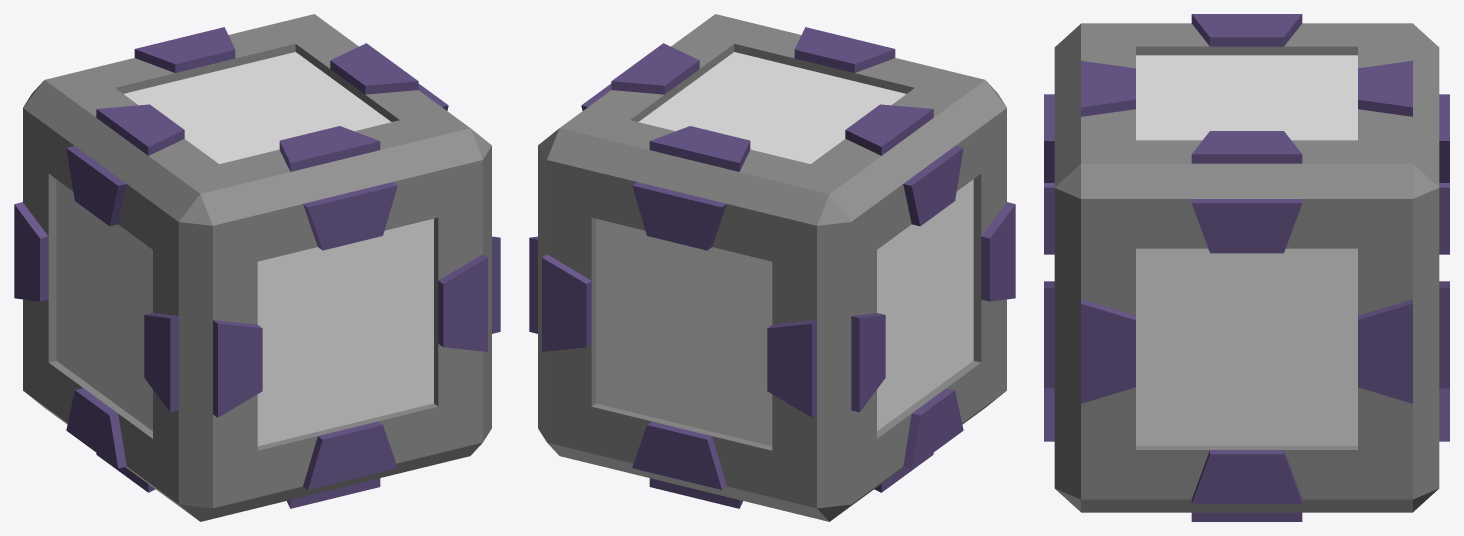
The picture shows the model from 3 angles, left to right: view 1: azimuth 30°, elevation 25°; view 2: azimuth 150°, elevation 25°; view 3: azimuth 270°, elevation 25°; orthographic projection. The views are drawn at different scales.
Visible parts, largest first — view 1: Cube; view 2: Cube; view 3: Cube.
Part boxes in pixels (x1=…): Cube: x1=14, y1=14, x2=500, y2=521; Cube: x1=529, y1=14, x2=1015, y2=521; Cube: x1=1044, y1=14, x2=1449, y2=521.
Bounding box in the file's own units: 158 × 158 × 158.
